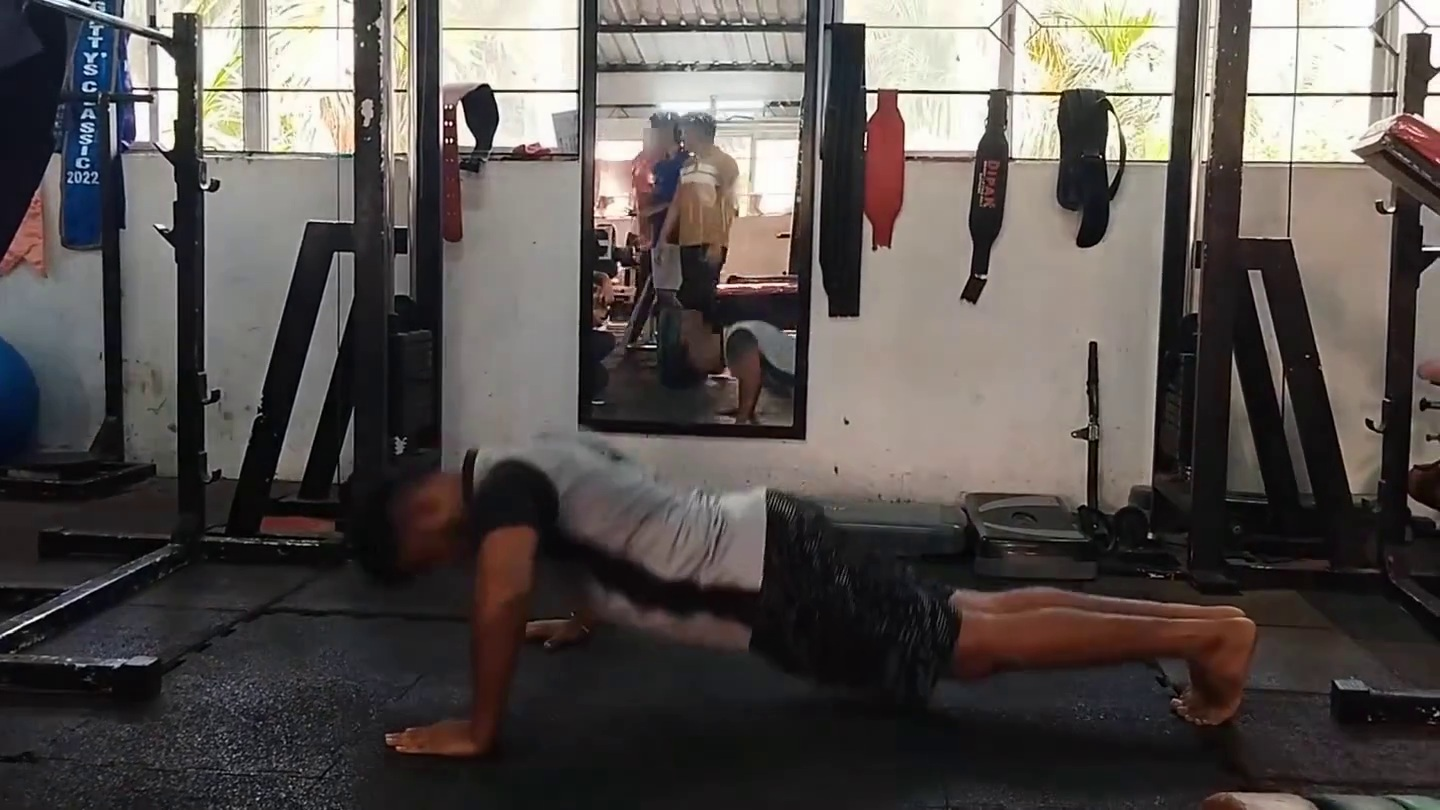push_up: (367, 489, 666, 759)
